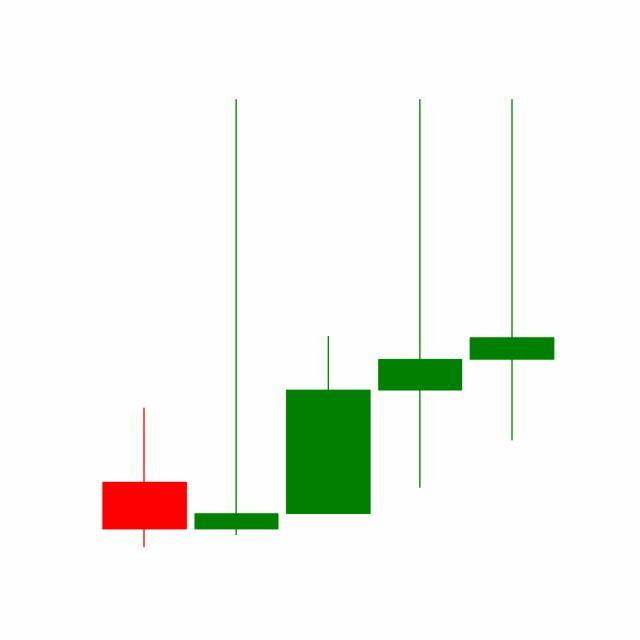Spinning Top: (374, 95, 468, 493)
